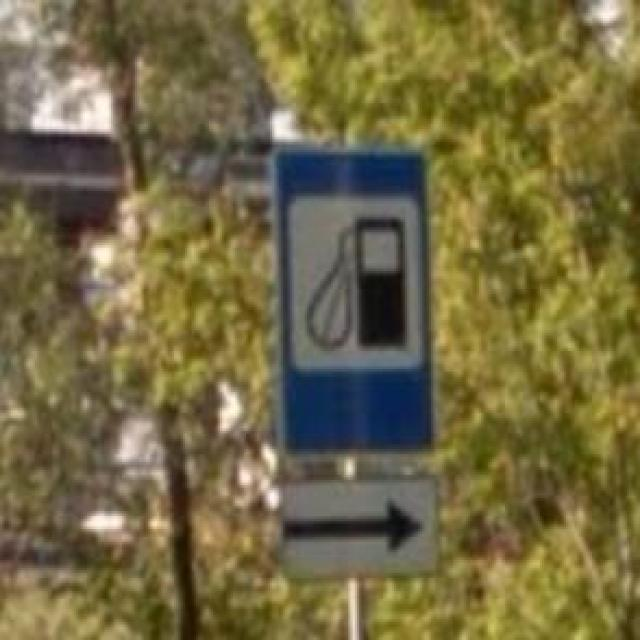traffic_sign: (270, 147, 437, 462)
